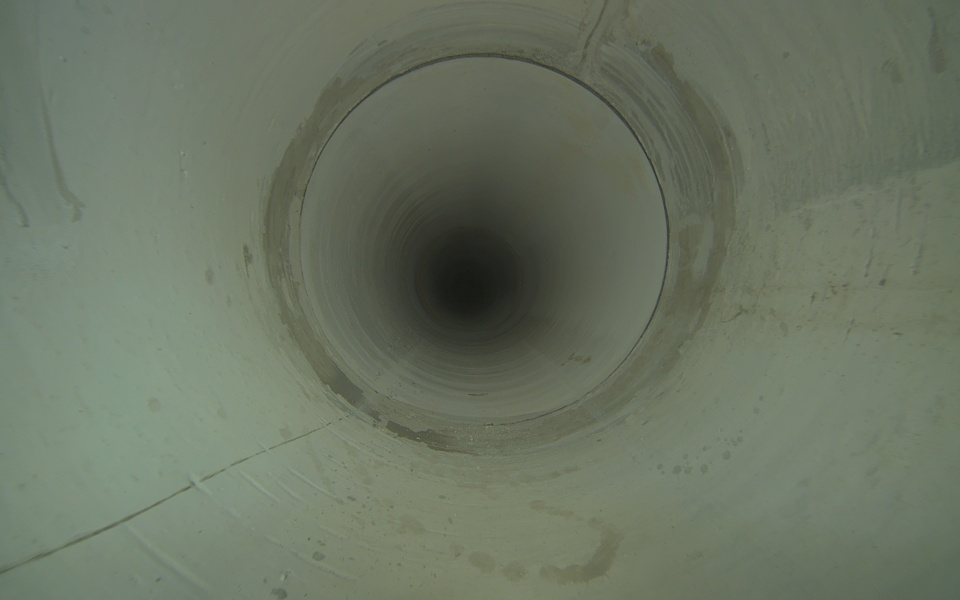circle1: (297, 53, 672, 428)
circle2: (441, 255, 495, 309)
